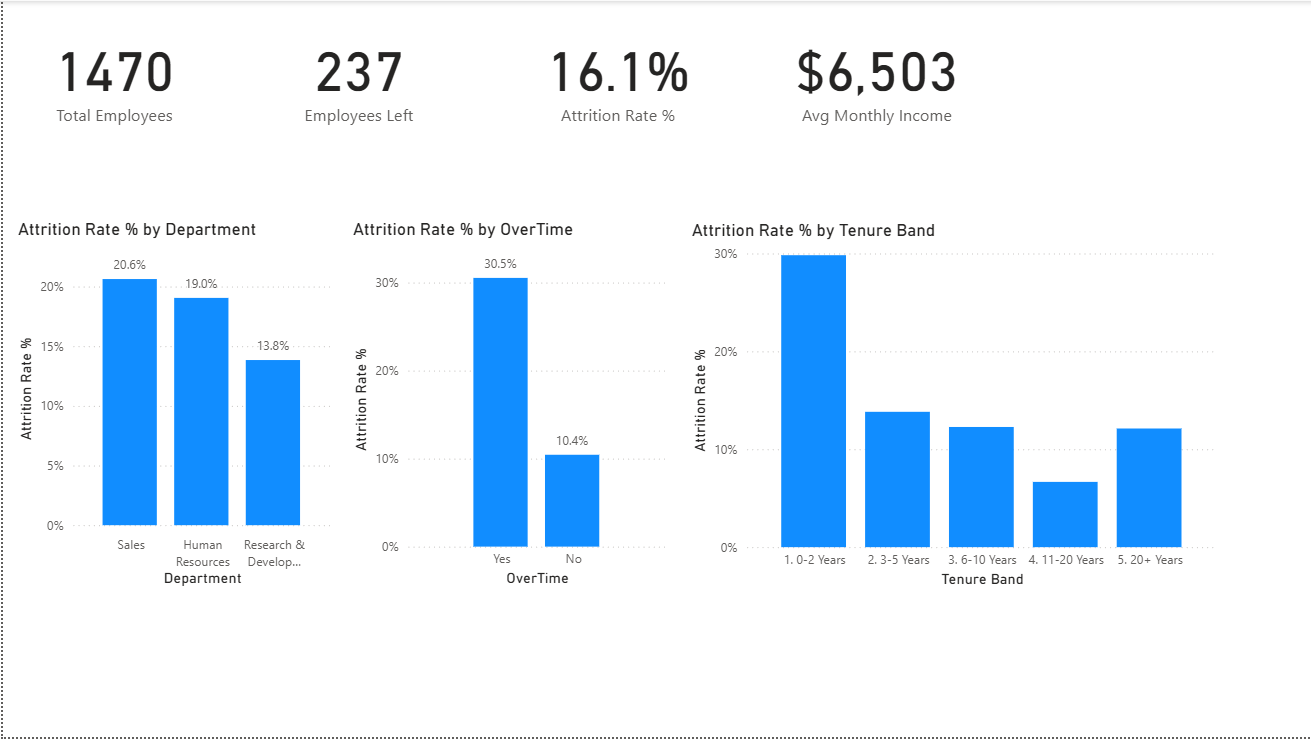

Layout of this report page (visuals, bound fields, positions):
{"tool":"powerbi","page":{"name":"Overview","canvas":[1280,720],"ordinal":0},"visuals":[{"type":"card","fields":{"Values":["HR.Total Employees"]},"box":[9.6,0,199,145.5],"z":0},{"type":"card","fields":{"Values":["HR.Employees Left"]},"box":[226.4,0,244.3,145.5],"z":1000},{"type":"card","fields":{"Values":["HR.Attrition Rate %"]},"box":[499.5,0,205.8,145.5],"z":2000},{"type":"card","fields":{"Values":["HR.Avg Monthly Income"]},"box":[756.1,0,199,145.5],"z":3000},{"type":"clusteredColumnChart","fields":{"Category":["HR.Department"],"Y":["HR.Attrition Rate %"]},"box":[9.6,212.7,317,365],"z":4000},{"type":"clusteredColumnChart","fields":{"Category":["HR.OverTime"],"Y":["HR.Attrition Rate %"]},"box":[337,213,317,365],"z":5000},{"type":"clusteredColumnChart","fields":{"Category":["HR.Tenure Band"],"Y":["HR.Attrition Rate %"]},"box":[668.6,214.3,524.3,364.3],"z":6000}]}

Visuals, with their boxes in screenshot pixels (x1, y1, x2, y2), scaled from the page's 1280x720 canvas onto the 1311x741 screenshot:
card - HR.Total Employees: {"x1": 10, "y1": 0, "x2": 214, "y2": 150}
card - HR.Employees Left: {"x1": 232, "y1": 0, "x2": 482, "y2": 150}
card - HR.Attrition Rate %: {"x1": 512, "y1": 0, "x2": 722, "y2": 150}
card - HR.Avg Monthly Income: {"x1": 774, "y1": 0, "x2": 978, "y2": 150}
clusteredColumnChart - HR.Department x HR.Attrition Rate %: {"x1": 10, "y1": 219, "x2": 335, "y2": 595}
clusteredColumnChart - HR.OverTime x HR.Attrition Rate %: {"x1": 345, "y1": 219, "x2": 670, "y2": 595}
clusteredColumnChart - HR.Tenure Band x HR.Attrition Rate %: {"x1": 685, "y1": 221, "x2": 1222, "y2": 595}
